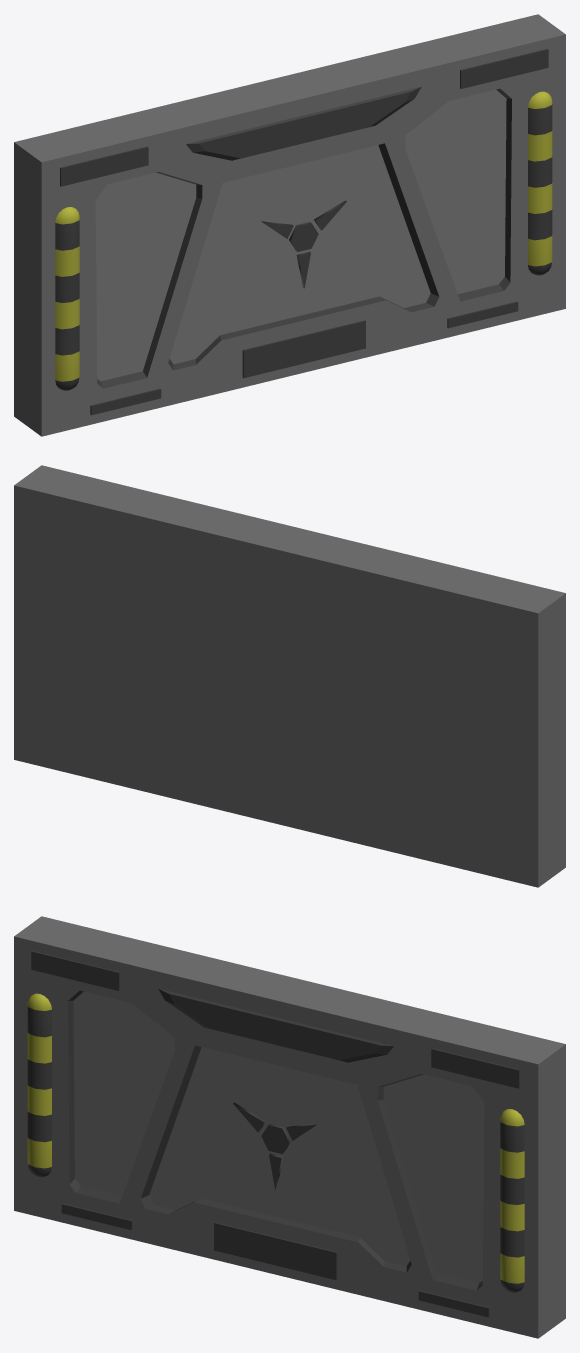
File: Door.FBX
The picture shows the model from 3 angles, top to bottom: view 1: azimuth 30°, elevation 25°; view 2: azimuth 150°, elevation 25°; view 3: azimuth 330°, elevation 25°; orthographic projection.
Visible parts, largest first — view 1: Door; view 2: Door; view 3: Door.
Part boxes in pixels (x1,y1,x2,y2): Door: (14, 14, 565, 436); Door: (14, 465, 565, 887); Door: (14, 916, 565, 1338).
Size of the model in its own units: 118 by 59.06 by 12.61.
